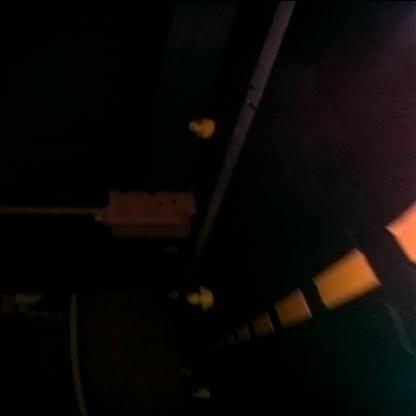Duckie: (188, 286, 212, 308), (189, 118, 213, 136)
